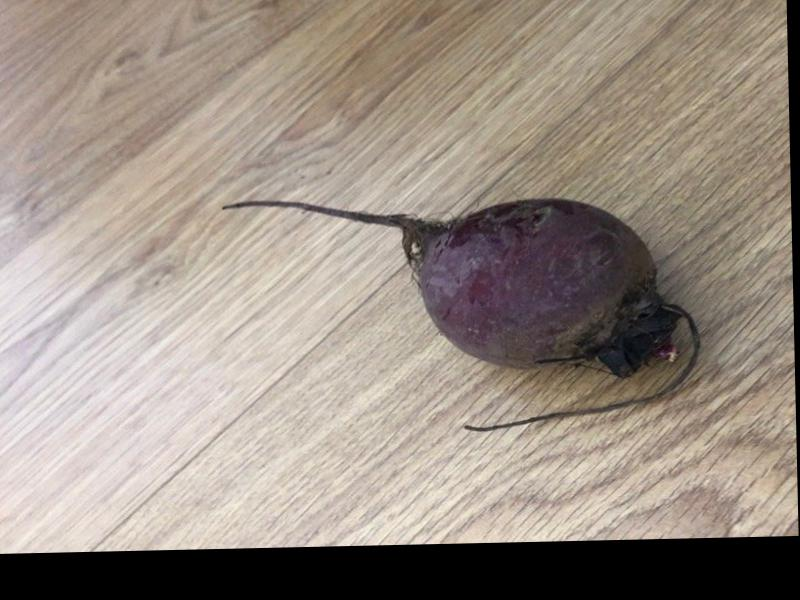Beet: (221, 189, 701, 436)
